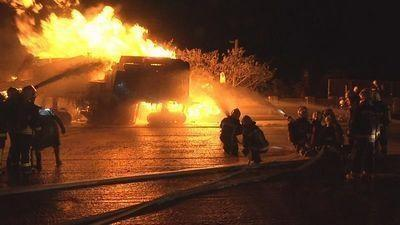fire: (7, 0, 221, 123)
